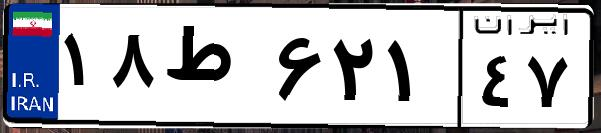1: (385, 28, 445, 110), (57, 26, 110, 100)
2: (330, 28, 385, 110)
4: (475, 38, 525, 113)
6: (270, 28, 330, 110)
7: (525, 38, 570, 115)
8: (110, 28, 158, 98)
ط: (158, 20, 270, 120)
